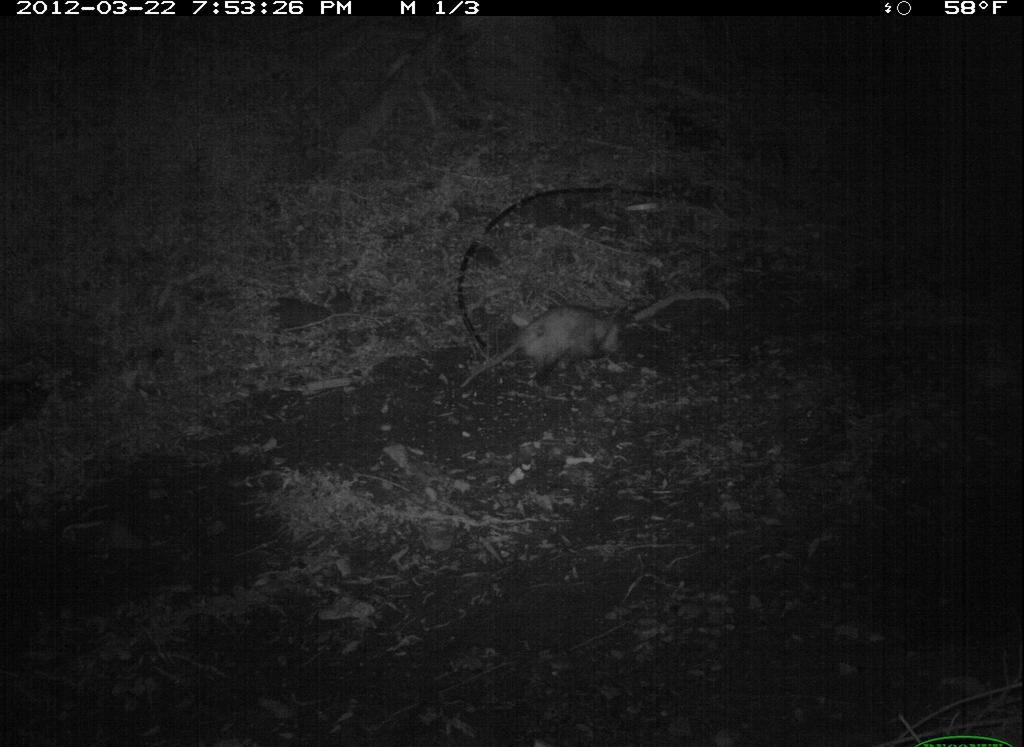opossum: (446, 292, 649, 418)
